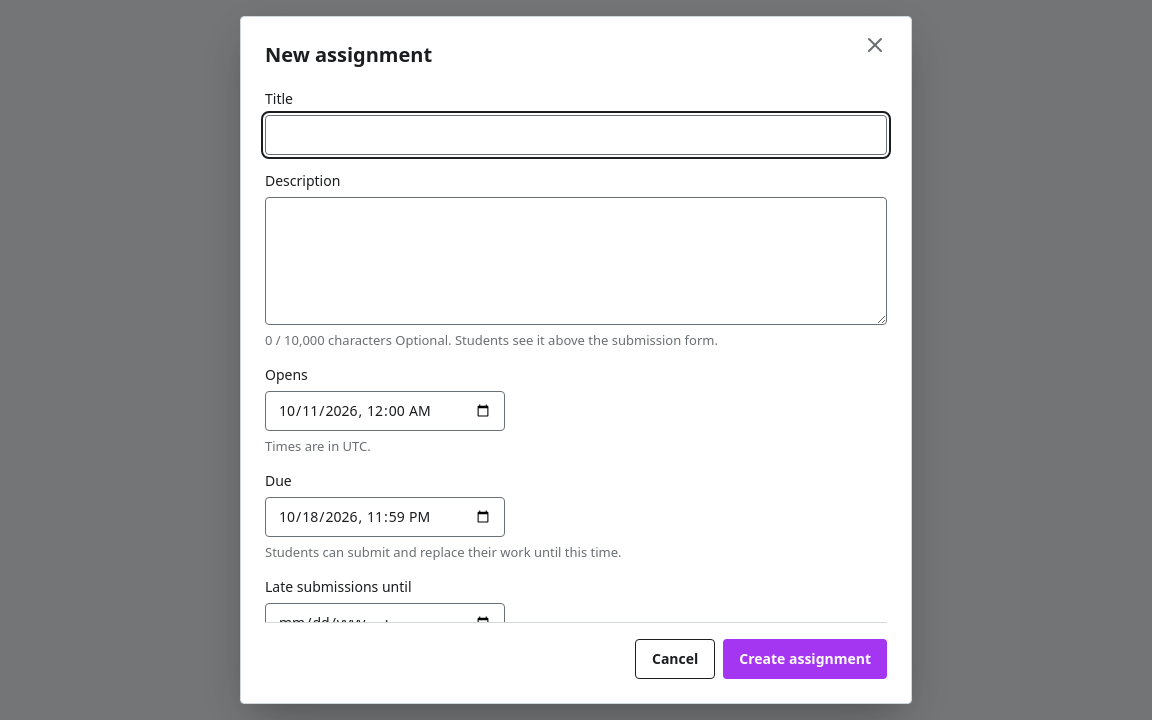
Test: maps a server lateUntil error under its field
Type "Essay" into the field labelled "Title".
click(576, 135); type("Essay")  # box [265,115,887,155]
(page scrolled)
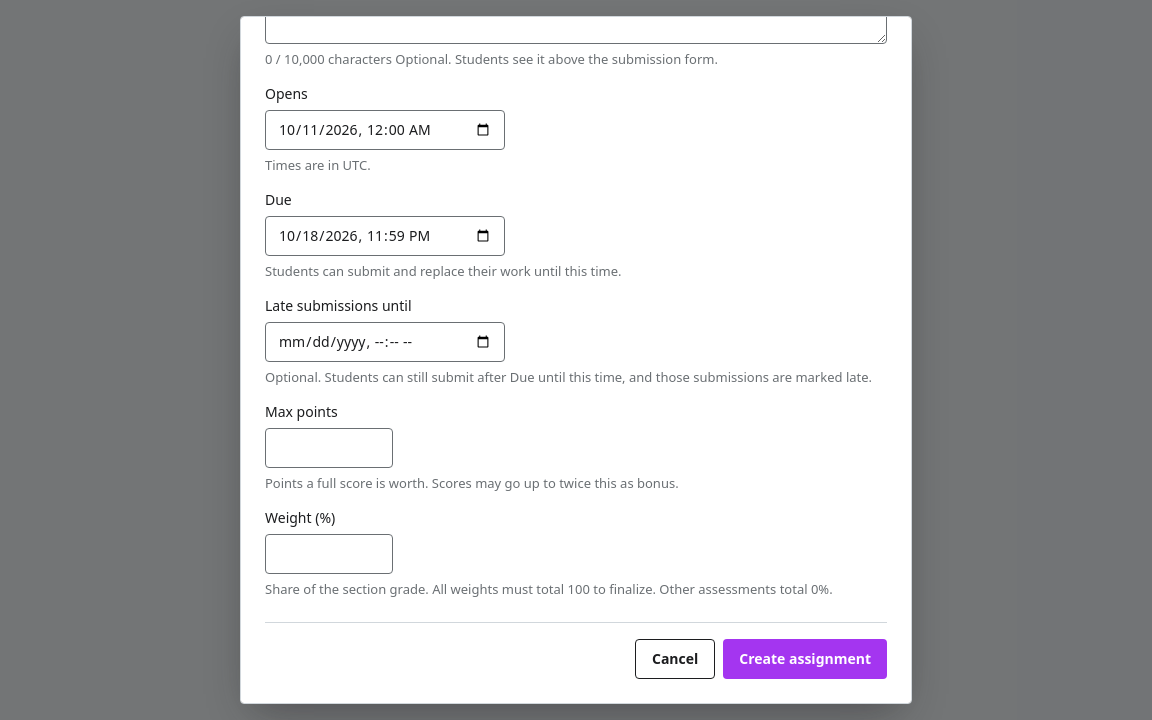
Type "20" into the field labelled "Max points".
click(329, 448); type("20")  # box [265,428,393,468]
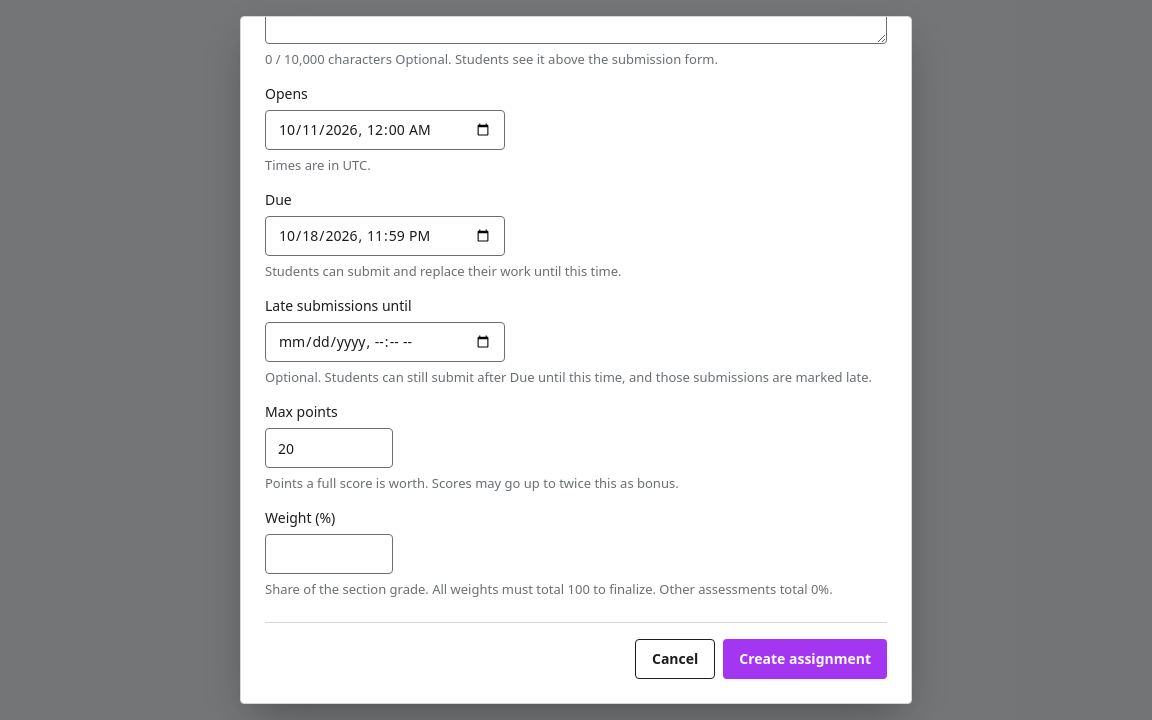
Type "20" into the field labelled "Weight (%)".
click(329, 554); type("20")  # box [265,534,393,574]
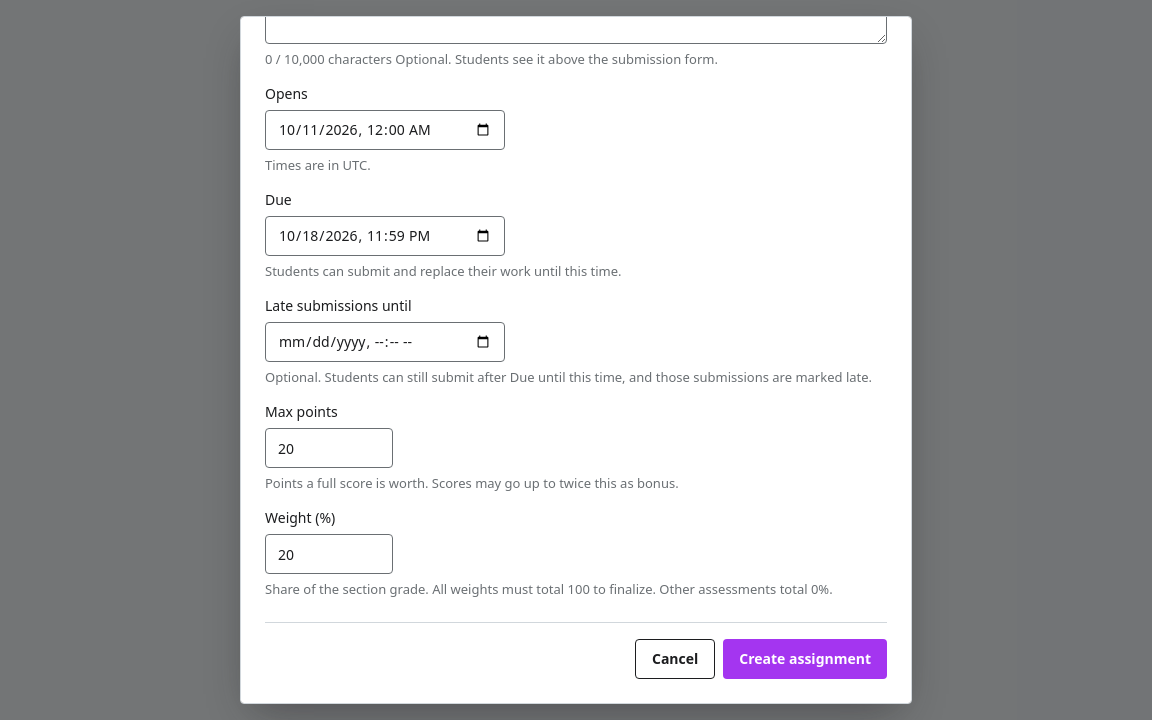
Click the button "Create assignment".
click(805, 659)  # box [723,639,887,679]
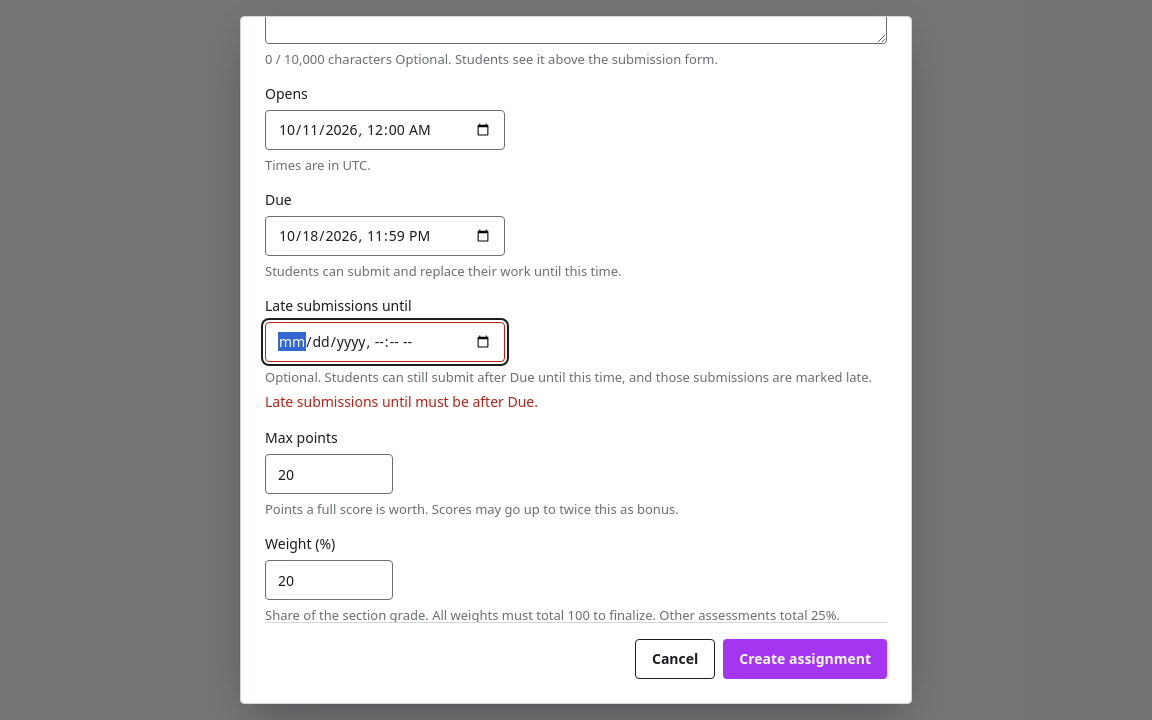
Now the text "Late submissions until must be after Due." is shown, box [264,391,538,411]
